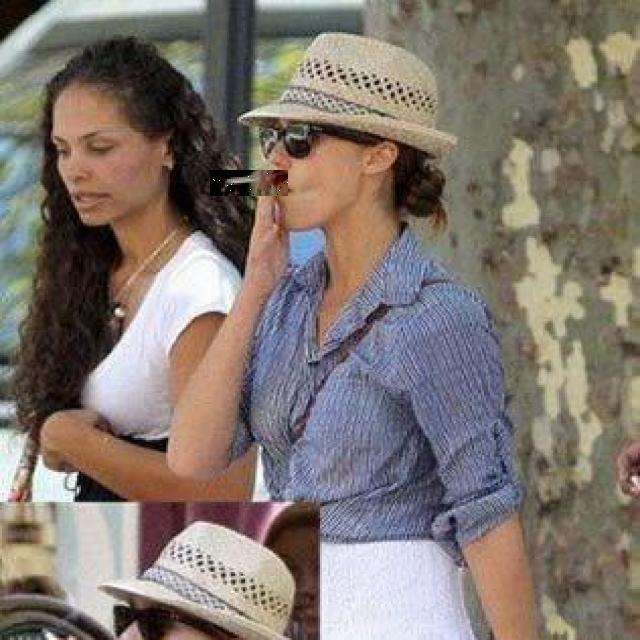smoking: (210, 170, 288, 196)
